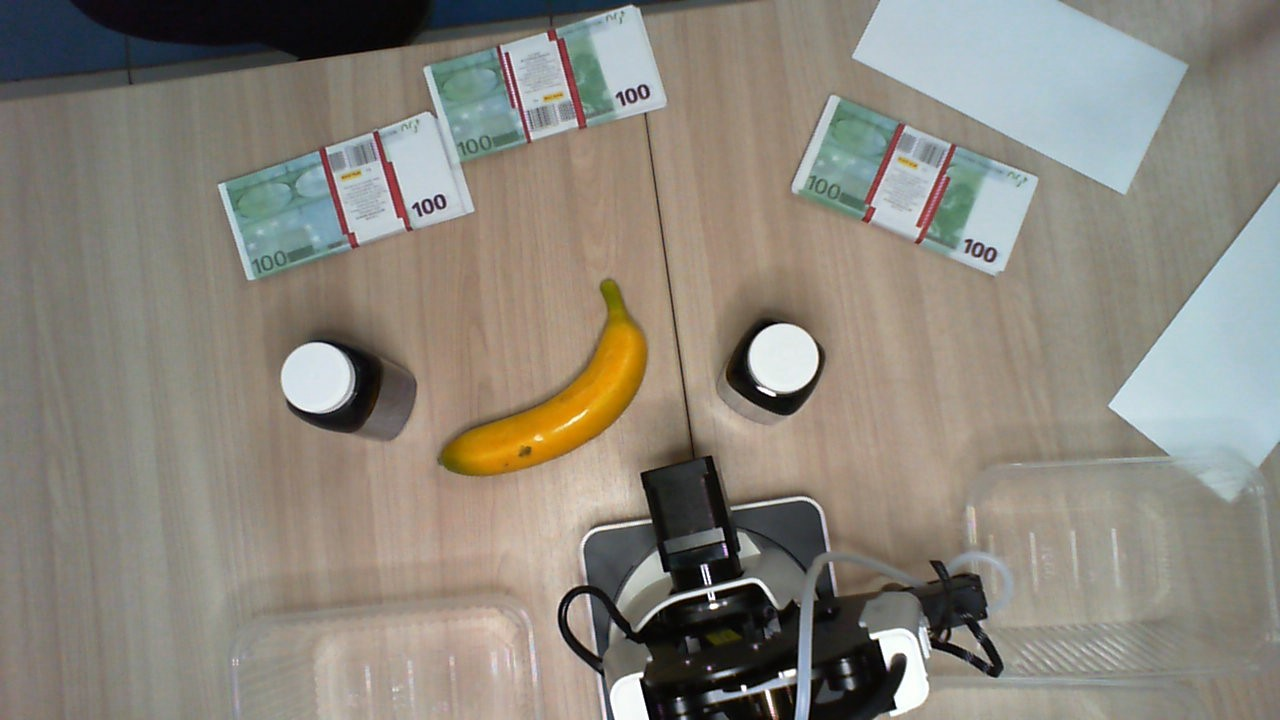banana: (438, 276, 650, 477)
bottle: (278, 333, 378, 438), (729, 313, 828, 415)
convert: (850, 1, 1189, 193), (1104, 186, 1280, 500)
money: (794, 93, 1042, 275), (215, 115, 471, 278), (422, 1, 673, 162)
